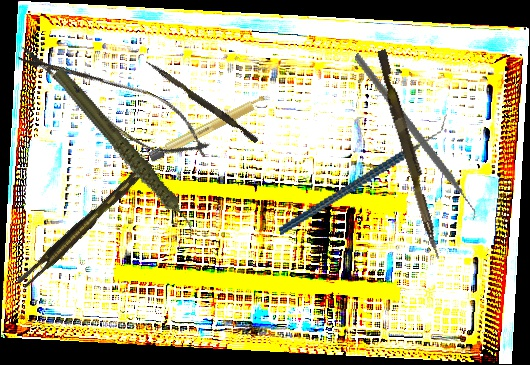Chopper: (312, 52, 515, 230), (262, 113, 465, 236)
Handpiece: (50, 47, 199, 261)
Micro Scissor: (4, 30, 223, 175)
Pusher: (371, 49, 449, 260), (142, 59, 261, 144)
Scalpel Handle: (146, 91, 274, 164)
Tissue Forceps: (13, 159, 159, 290)
